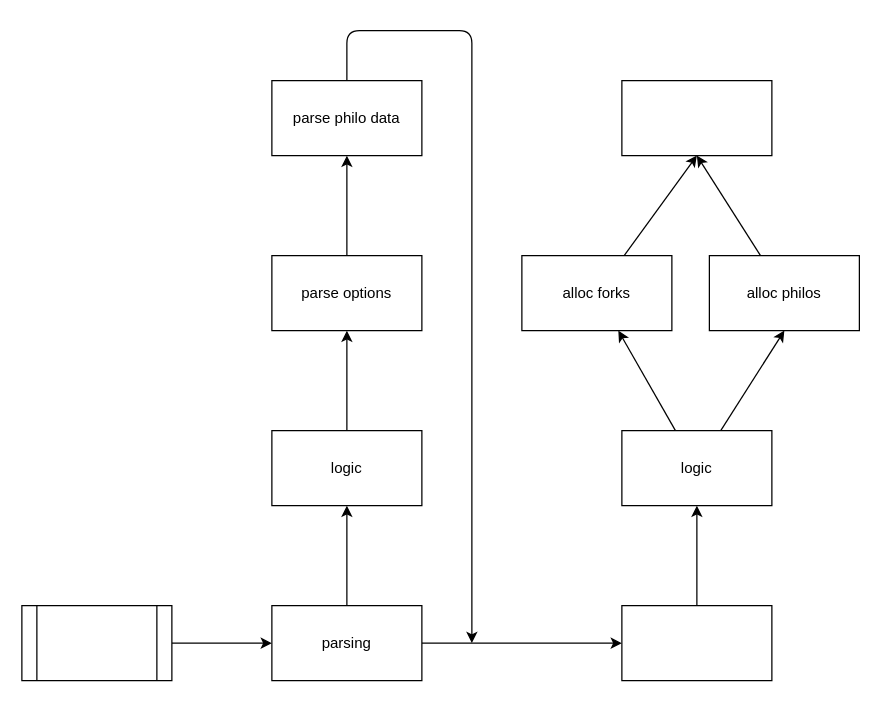
This 881x703 diagram has some shape labels left out. The box of each missing label's shape, as (x1, y1, x2, y2) in pixels:
build philo: (621, 604, 772, 681)
init data: (621, 79, 772, 156)
Main: (21, 604, 172, 681)
